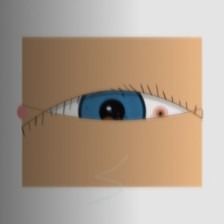foreign_body_visible: (150, 105, 171, 122)
